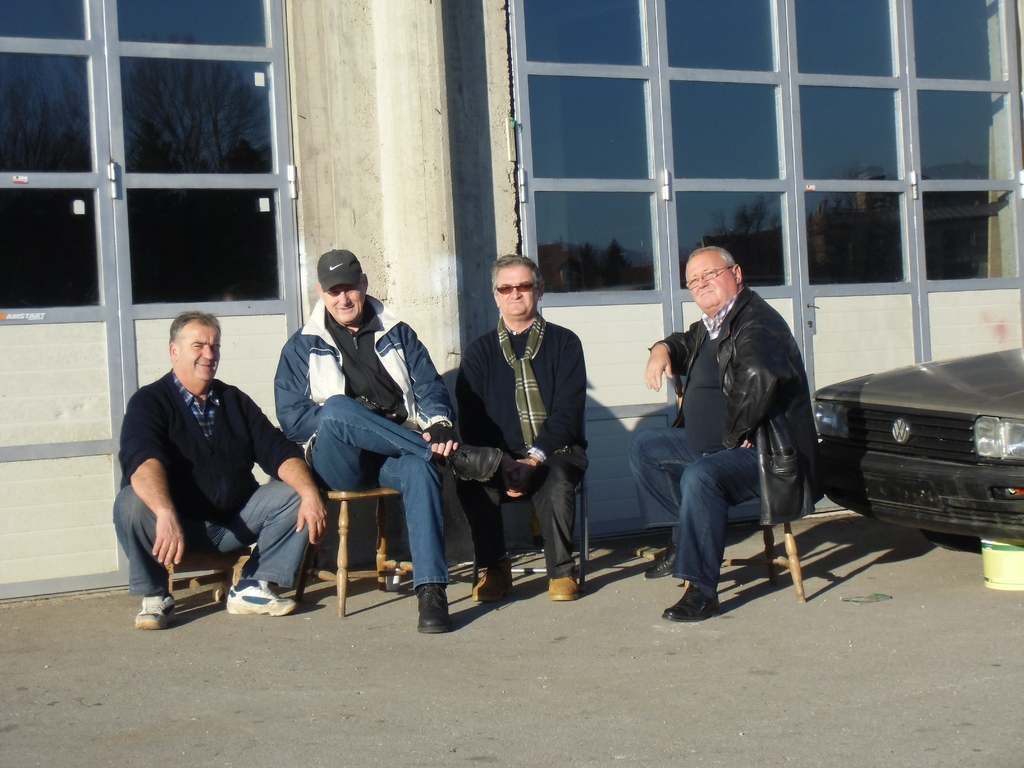Car: (811, 346, 1023, 554)
